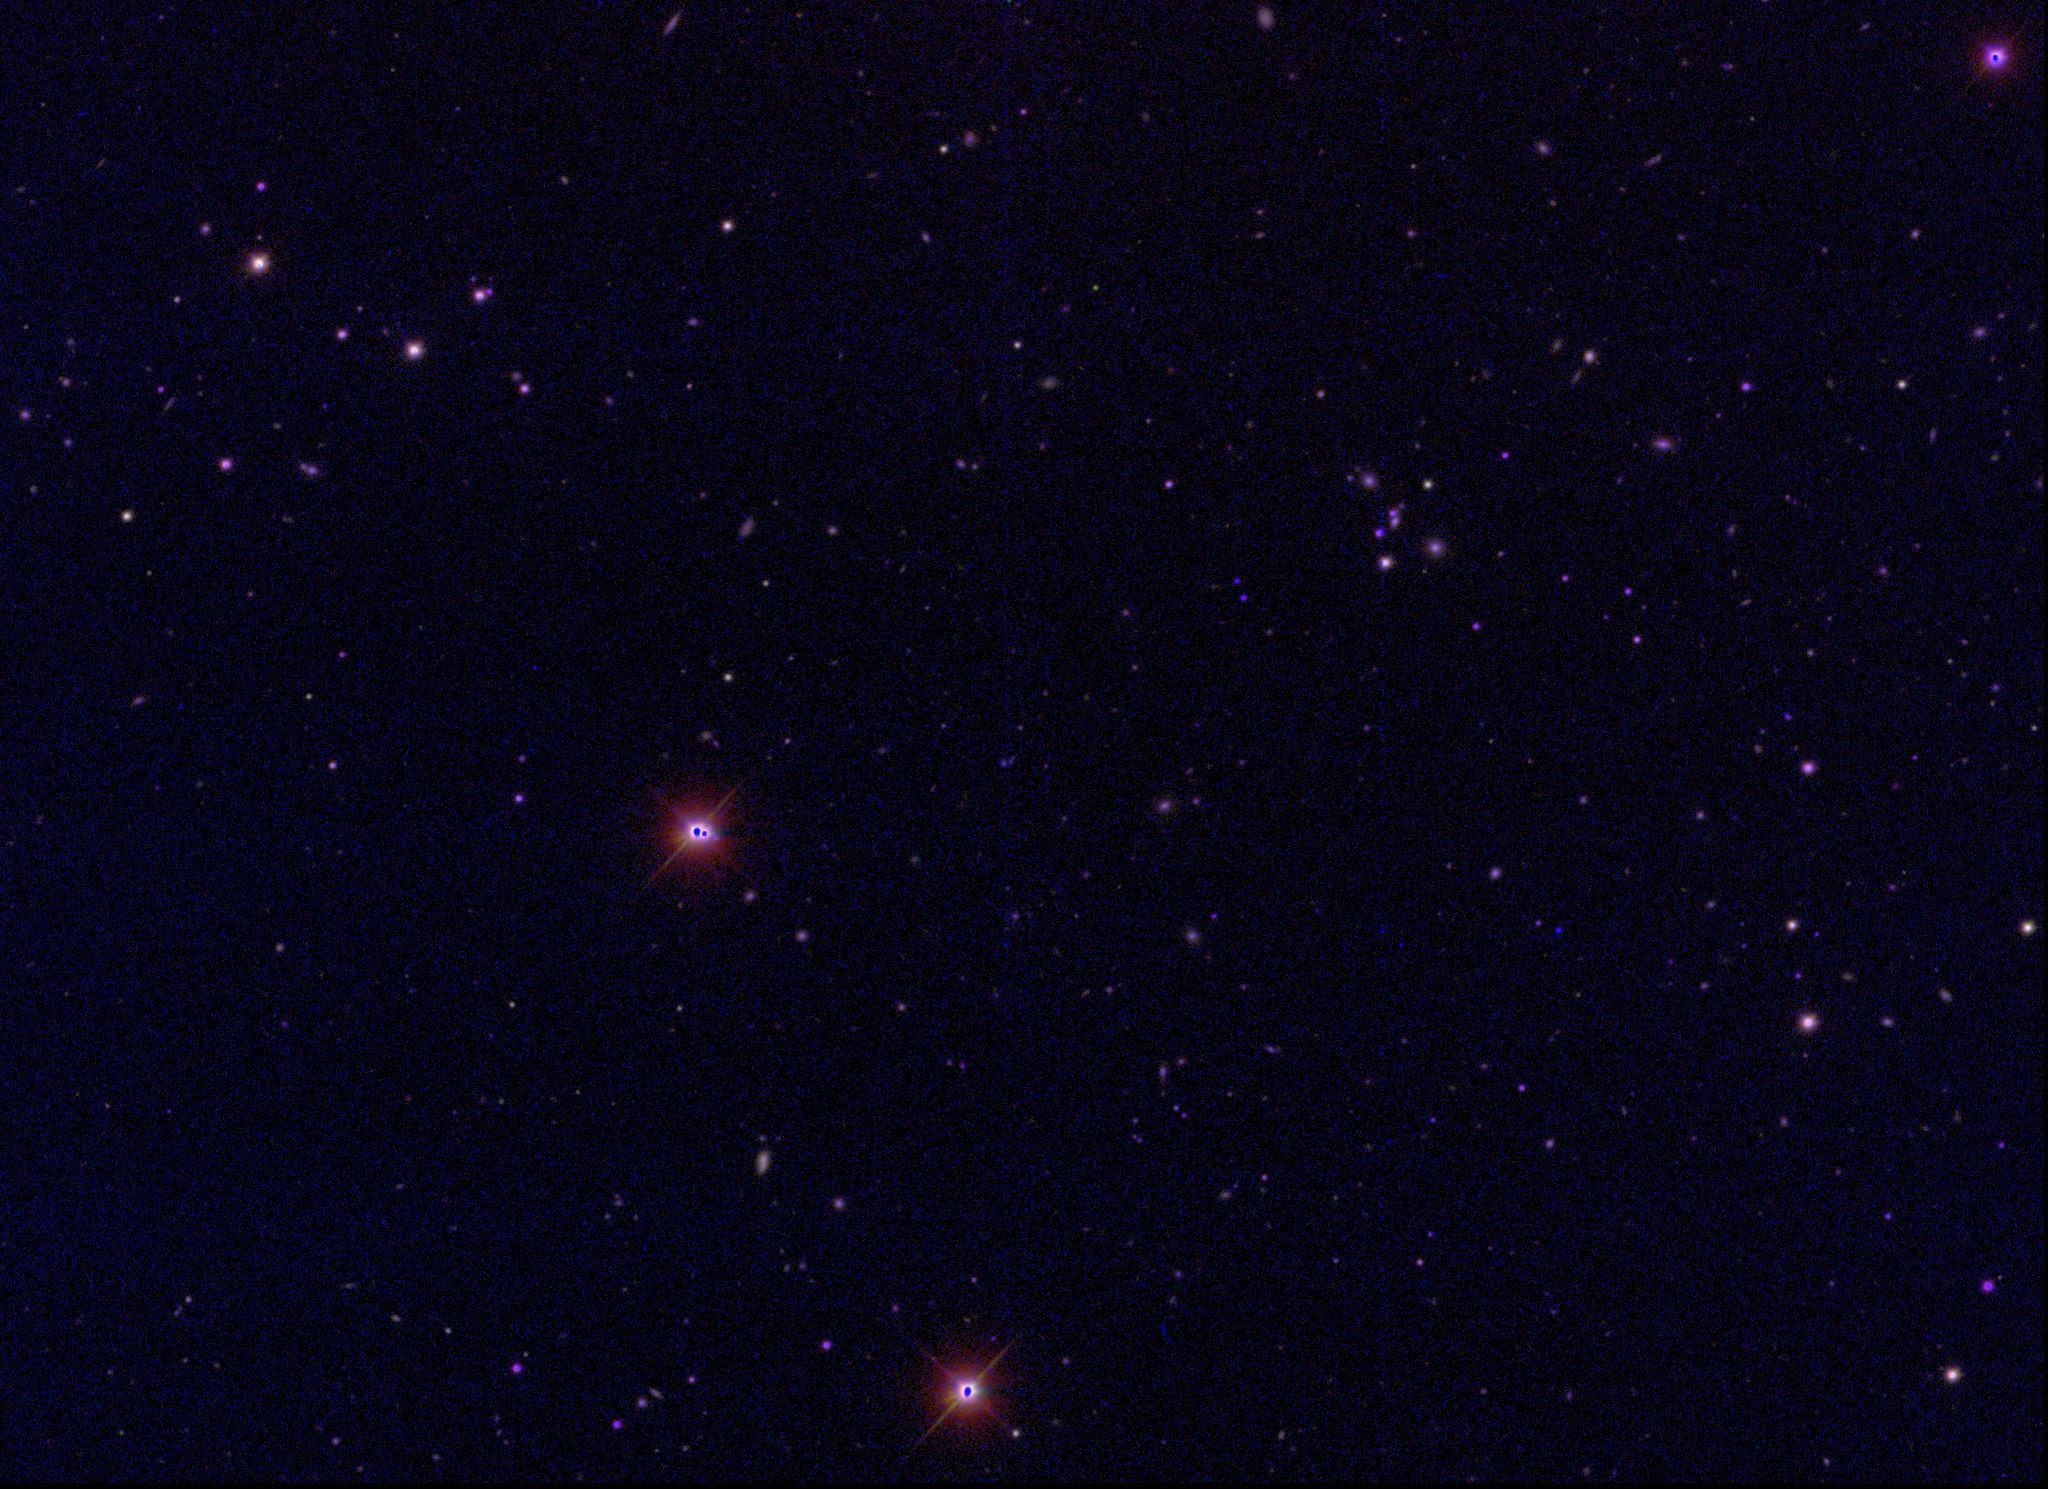L: (1552, 923, 1566, 937)
